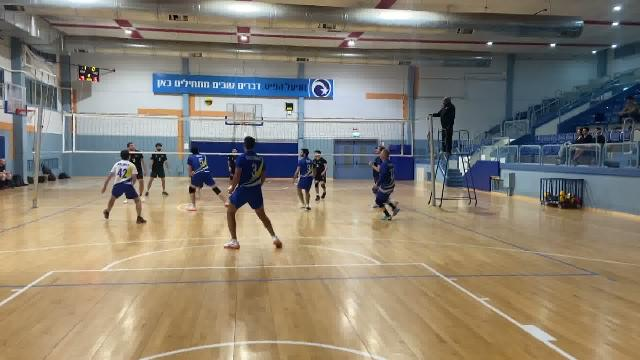ball: (202, 97, 215, 107)
